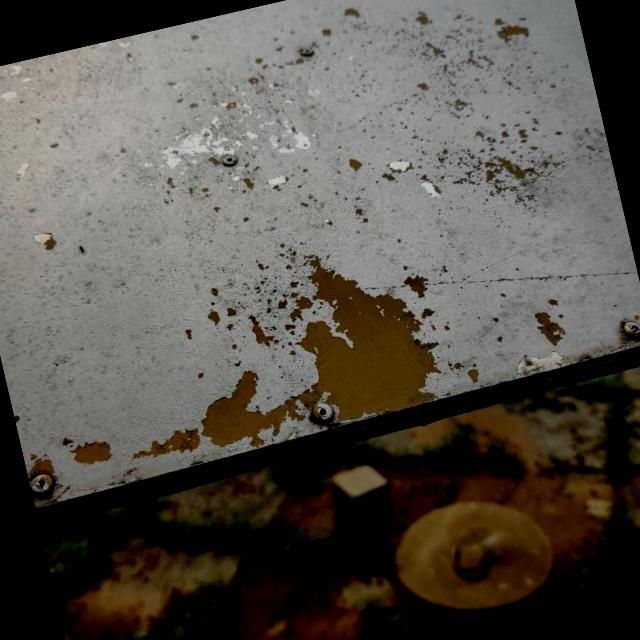paint-off: (21, 202, 506, 522)
